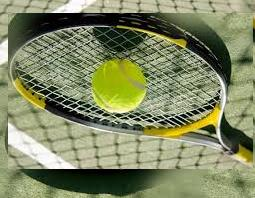tennis ball: (93, 69, 148, 124)
tennis racket: (9, 14, 254, 168)
